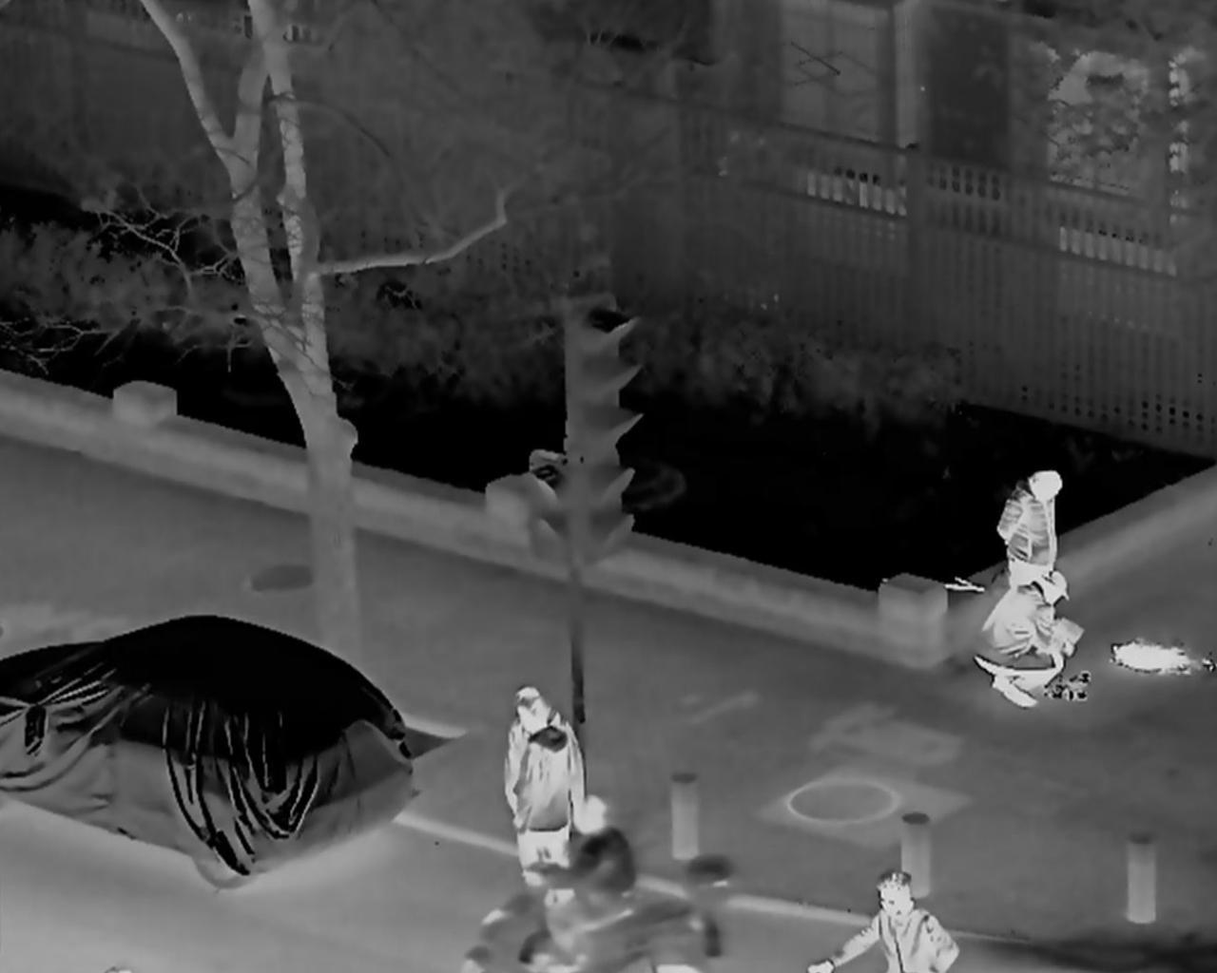person: (531, 795, 634, 964), (807, 872, 960, 973), (503, 684, 578, 886), (512, 699, 581, 906), (973, 578, 1072, 708), (995, 466, 1065, 641)
